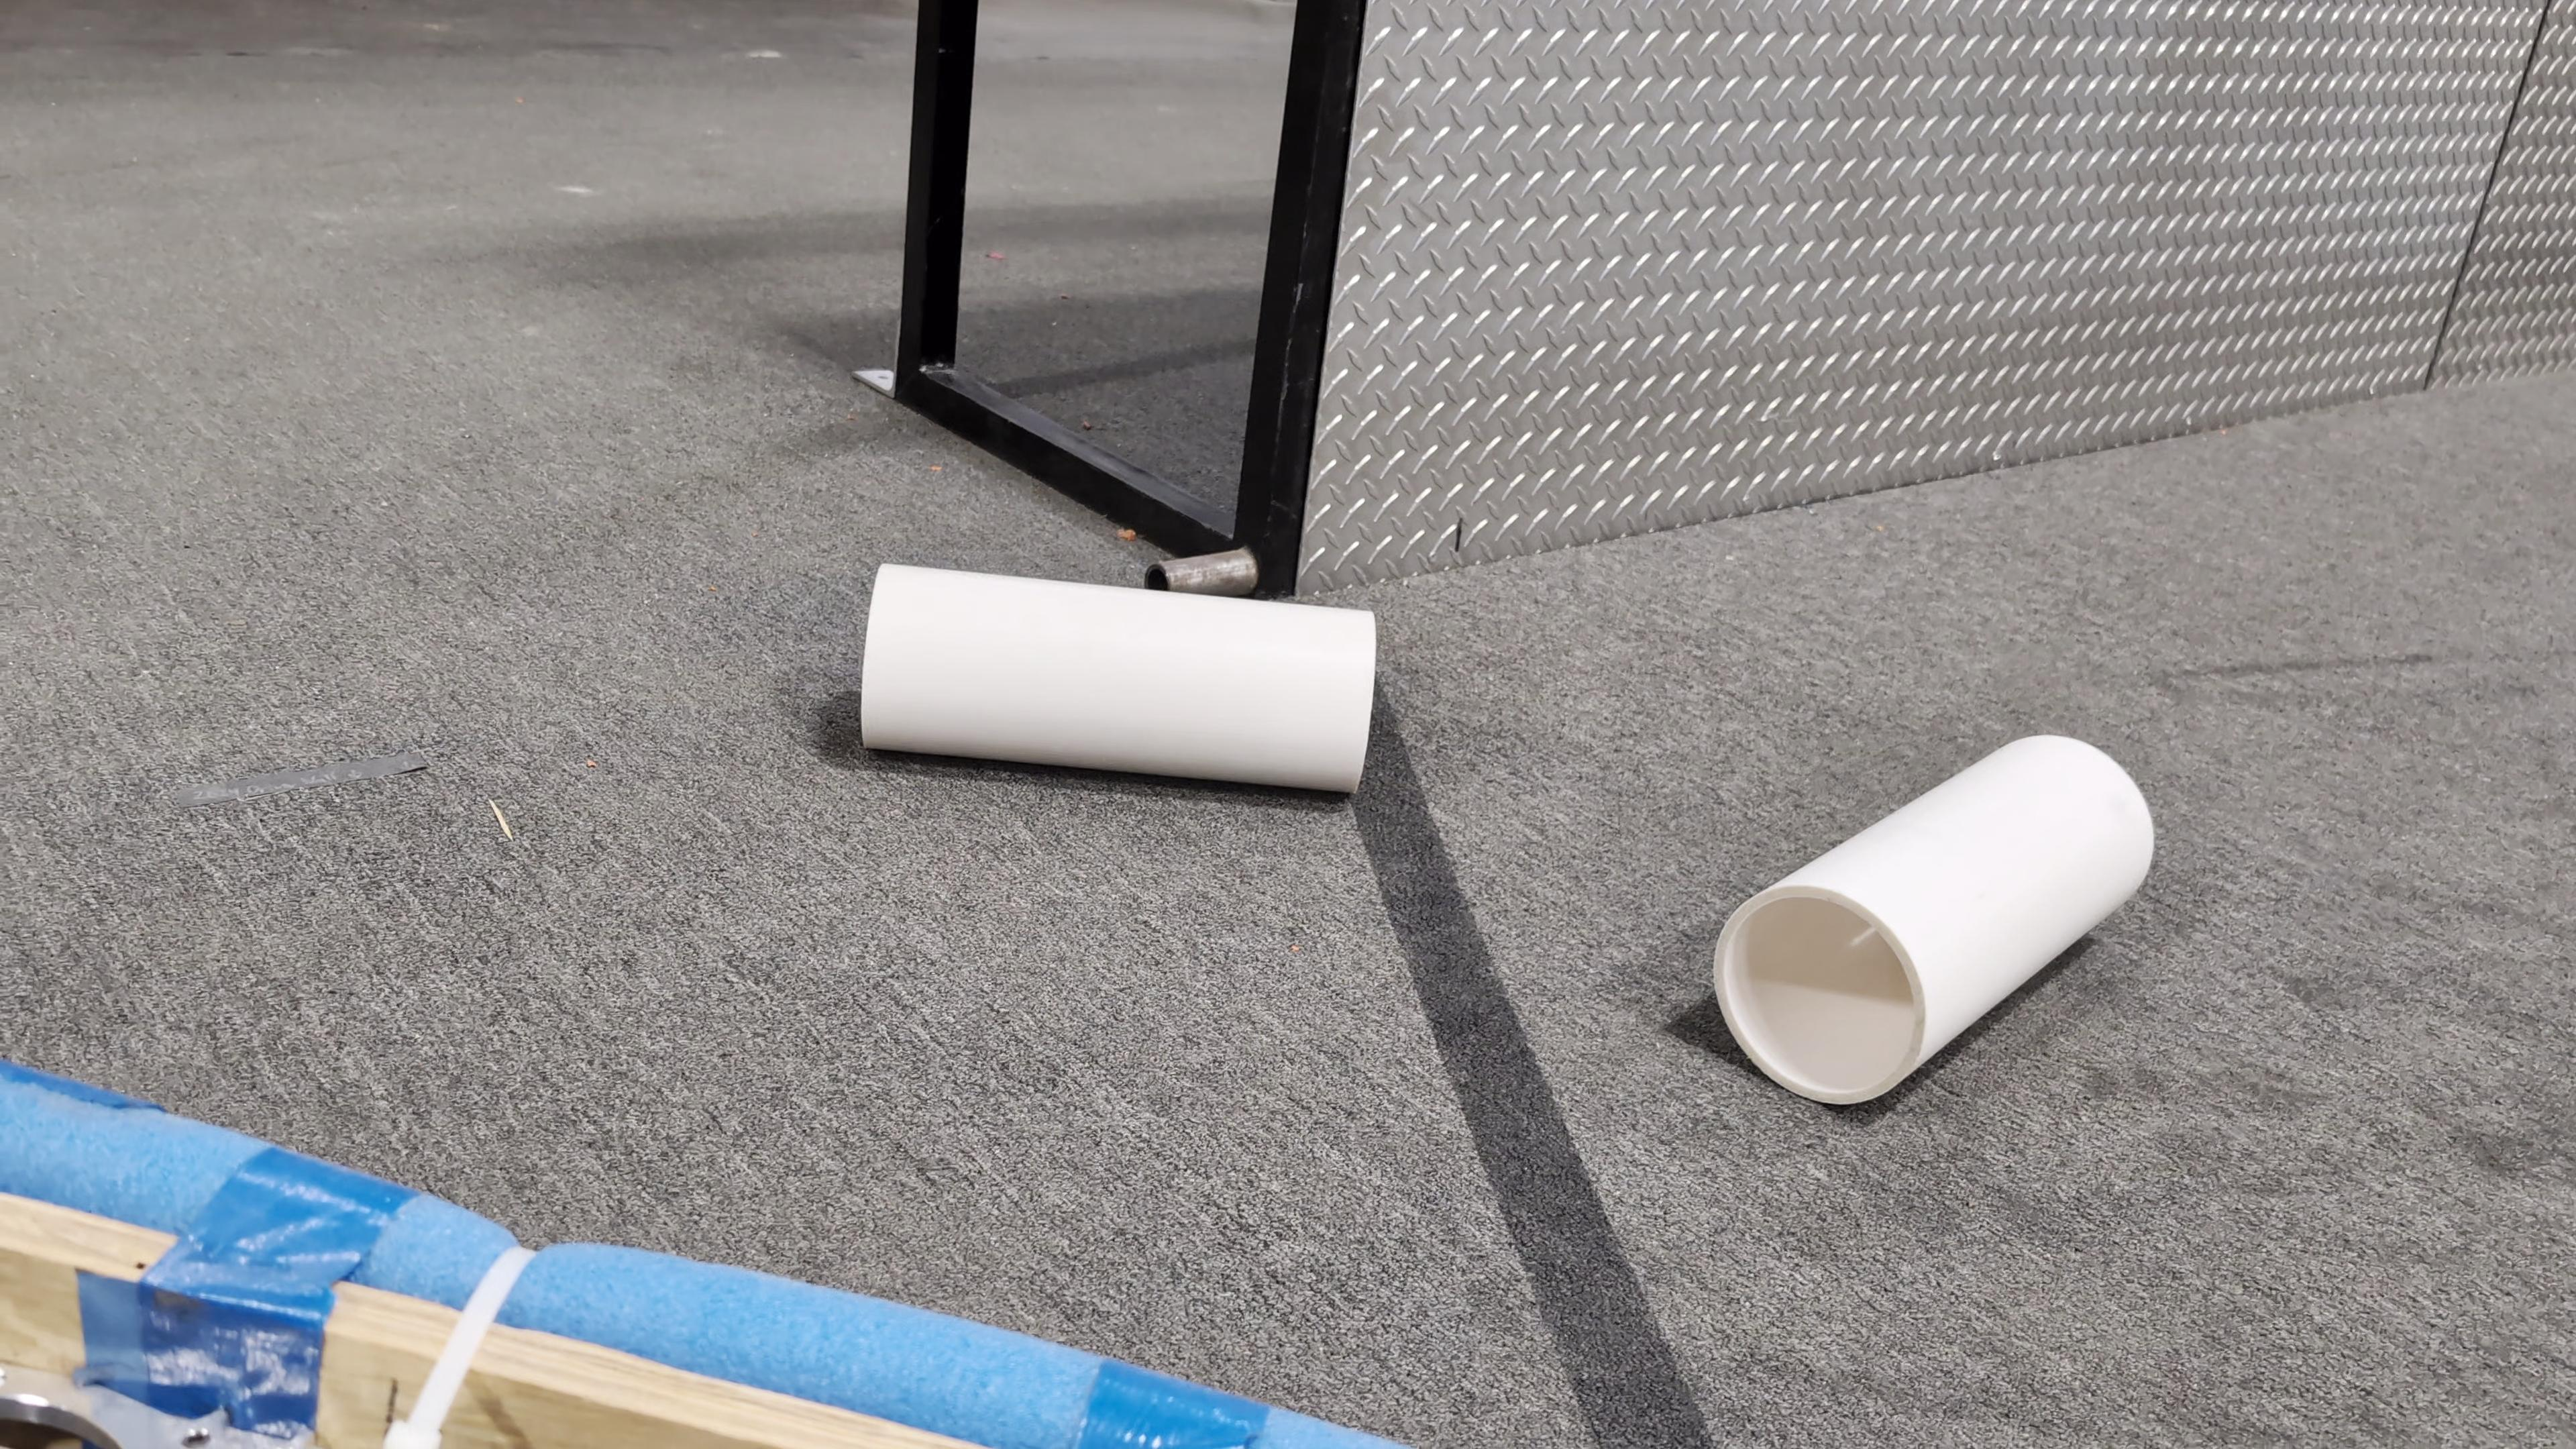coral: (1714, 736, 2153, 1100), (862, 563, 1375, 794)
